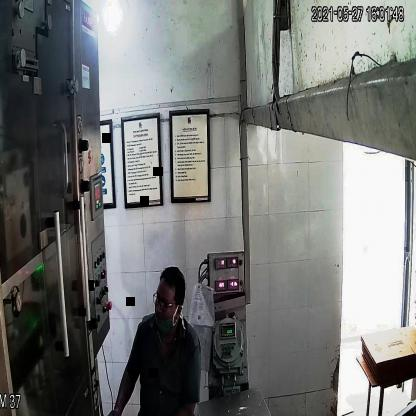goggles: (150, 291, 181, 313)
